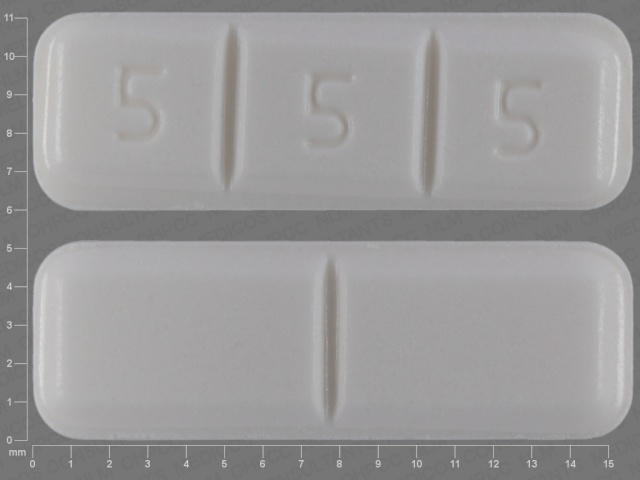5: (299, 65, 360, 153), (489, 72, 548, 161), (109, 65, 166, 147)
|: (202, 22, 259, 203), (300, 250, 353, 436), (404, 21, 457, 203)
